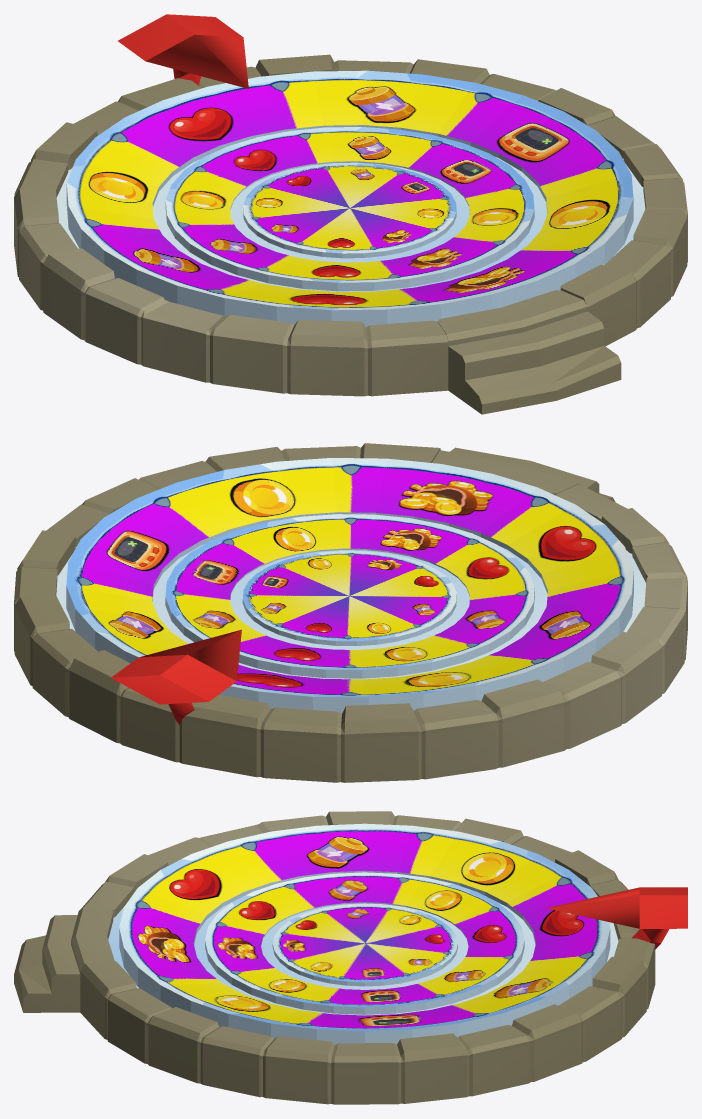
The model's file is Rulleta_1.FBX.
The picture shows the model from 3 angles, top to bottom: view 1: azimuth 30°, elevation 25°; view 2: azimuth 150°, elevation 25°; view 3: azimuth 270°, elevation 25°; orthographic projection. The views are drawn at different scales.
Visible parts, largest first — view 1: Rulleta, Big_Reel, Middle_Reel, Small_Reel, Water; view 2: Rulleta, Big_Reel, Middle_Reel, Small_Reel, Water; view 3: Rulleta, Big_Reel, Middle_Reel, Small_Reel, Water.
Part boxes in pixels (x1,y1,x2,y2): Rulleta: (14,14,687,414); Big_Reel: (66,70,633,327); Middle_Reel: (165,127,534,291); Small_Reel: (243,163,456,258); Water: (56,157,645,291); Rulleta: (14,443,687,782); Big_Reel: (66,458,633,713); Middle_Reel: (165,514,534,678); Small_Reel: (242,551,456,645); Water: (56,544,645,679); Rulleta: (14,811,687,1104); Big_Reel: (119,823,610,1044); Middle_Reel: (205,872,524,1014); Small_Reel: (272,904,457,986); Water: (108,896,618,1015).
Bounding box in the file's own units: 121 × 20.18 × 140.
Materials: 2 (2 with a texture image).
